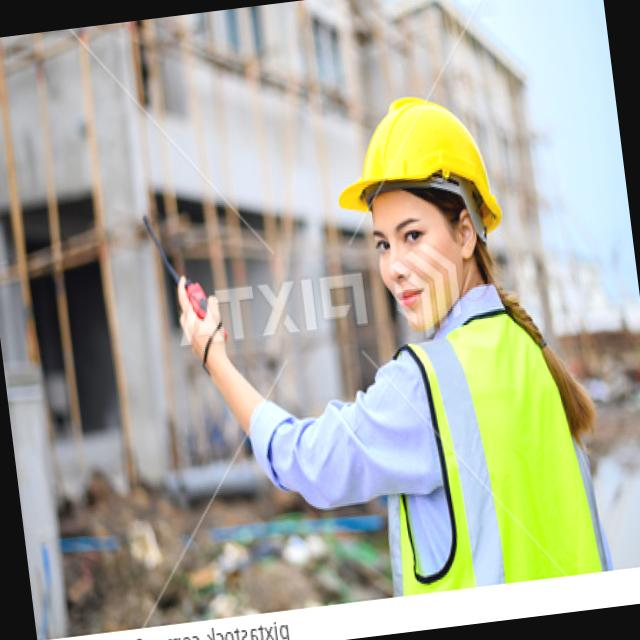helmet: (326, 90, 513, 242)
no-goggles: (346, 182, 483, 281)
vest: (370, 310, 611, 593)
